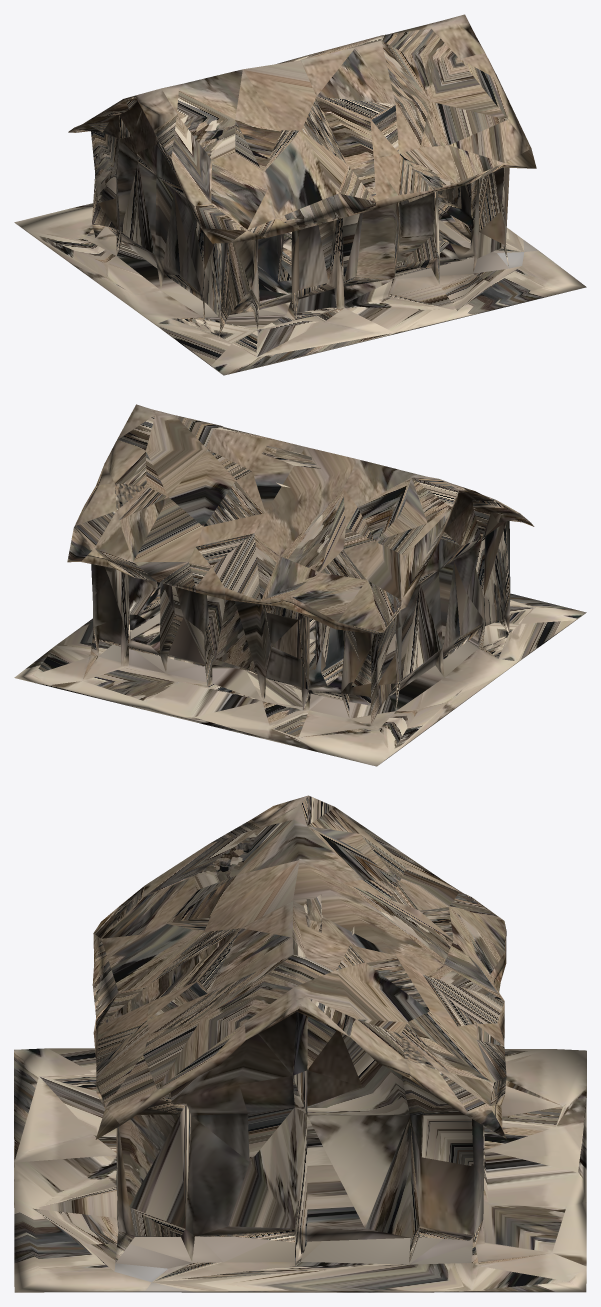
The model's file is nha-mai-la.glb.
3 renders of one model, top to bottom at view 1: azimuth 30°, elevation 25°; view 2: azimuth 150°, elevation 25°; view 3: azimuth 270°, elevation 25°, orthographic. The views are drawn at different scales.
Visible parts, largest first — view 1: Object_5; view 2: Object_5; view 3: Object_5.
Boxes of the visible parts, x1=… form: Object_5: x1=14, y1=14, x2=586, y2=375; Object_5: x1=14, y1=404, x2=586, y2=766; Object_5: x1=14, y1=795, x2=586, y2=1292.
Size of the model in its own units: 0.9996 by 0.5277 by 0.9998.
1 material, 1 textured.
